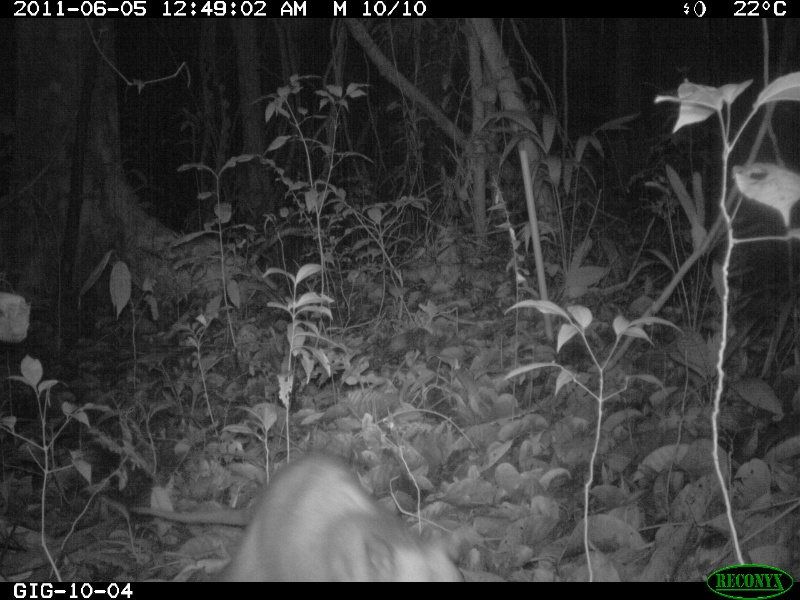opossum: (126, 455, 467, 582)
